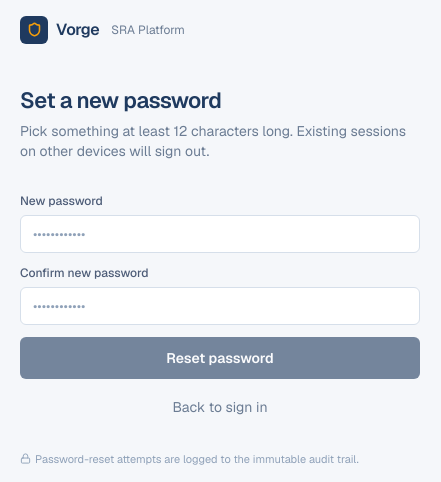
Test: ResetPasswordPage › server 401 INVALID_RESET_TOKEN switches to the expired-link UI
The image size is (441, 482).
Step 1. Type "ValidPassword12!" into the password field labelled "New password" → (220, 234), box left=20, top=215, right=420, bottom=253
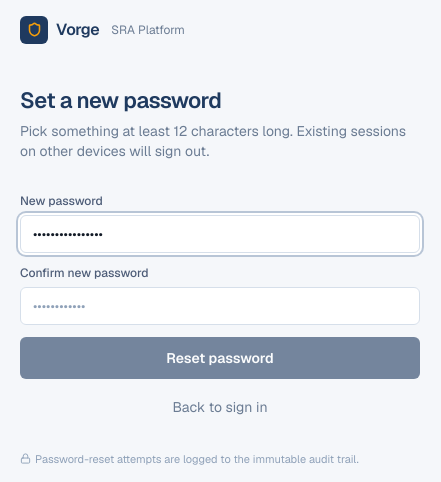
Step 2. Type "ValidPassword12!" into the password field labelled "Confirm new password" → (220, 306), box left=20, top=287, right=420, bottom=325
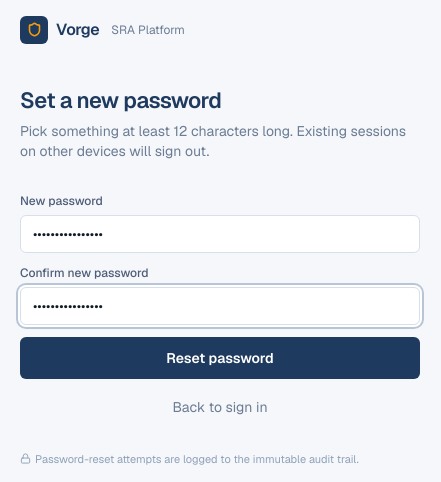
Step 3. Click the button "Reset password" → click(220, 358), box left=20, top=337, right=420, bottom=379
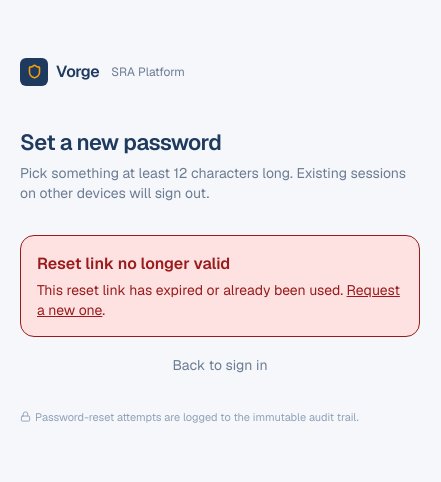
Check: the text "Reset link no longer valid" is shown, box left=37, top=253, right=230, bottom=274
